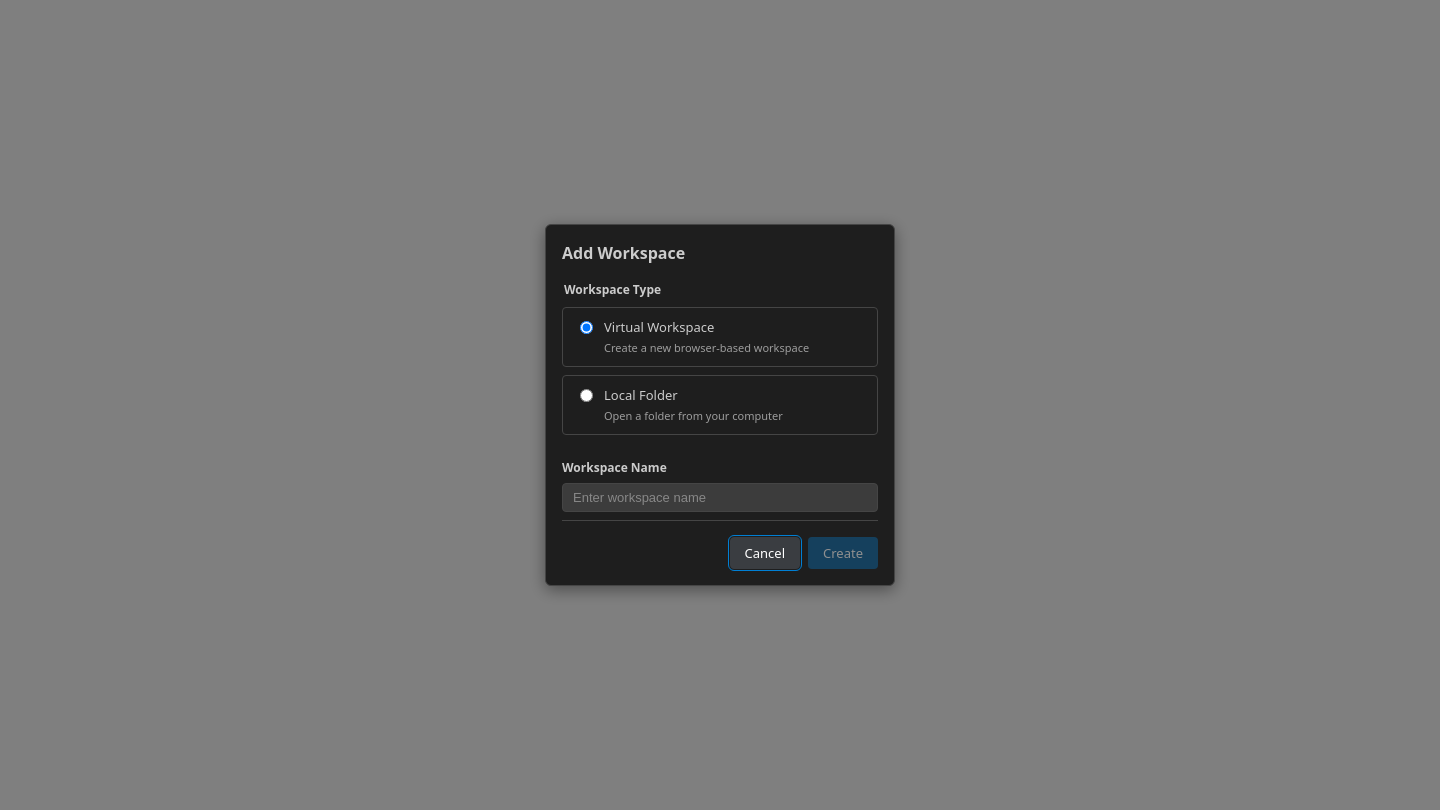
Test: AddWorkspaceDialog › local folder selection › shows folder name after selection
Click the radio button labelled "Local Folder Open a folder from your computer".
click(586, 396)  # box x1=580 y1=389 x2=593 y2=402
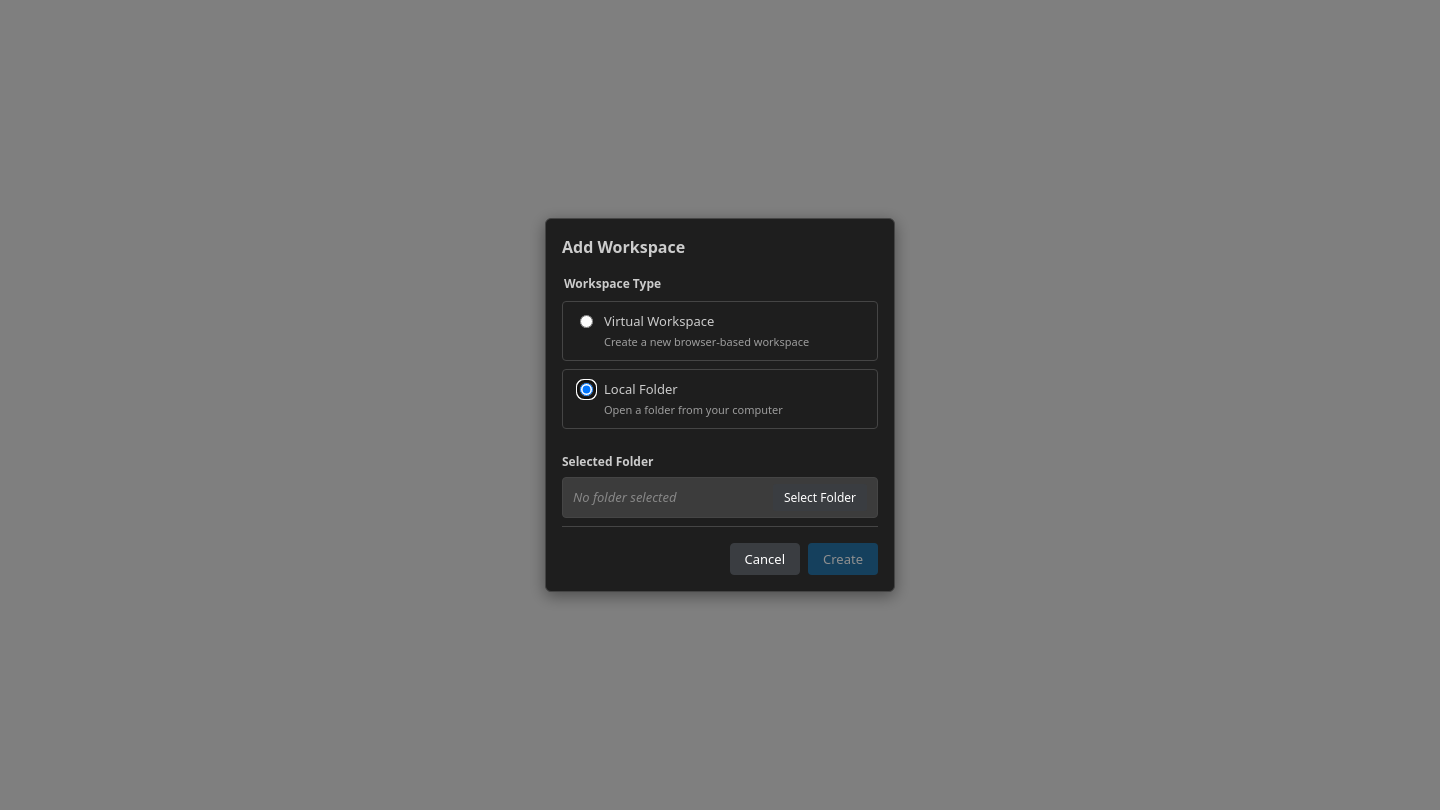
Click the button "Select Folder".
click(820, 498)  # box x1=773 y1=484 x2=867 y2=511
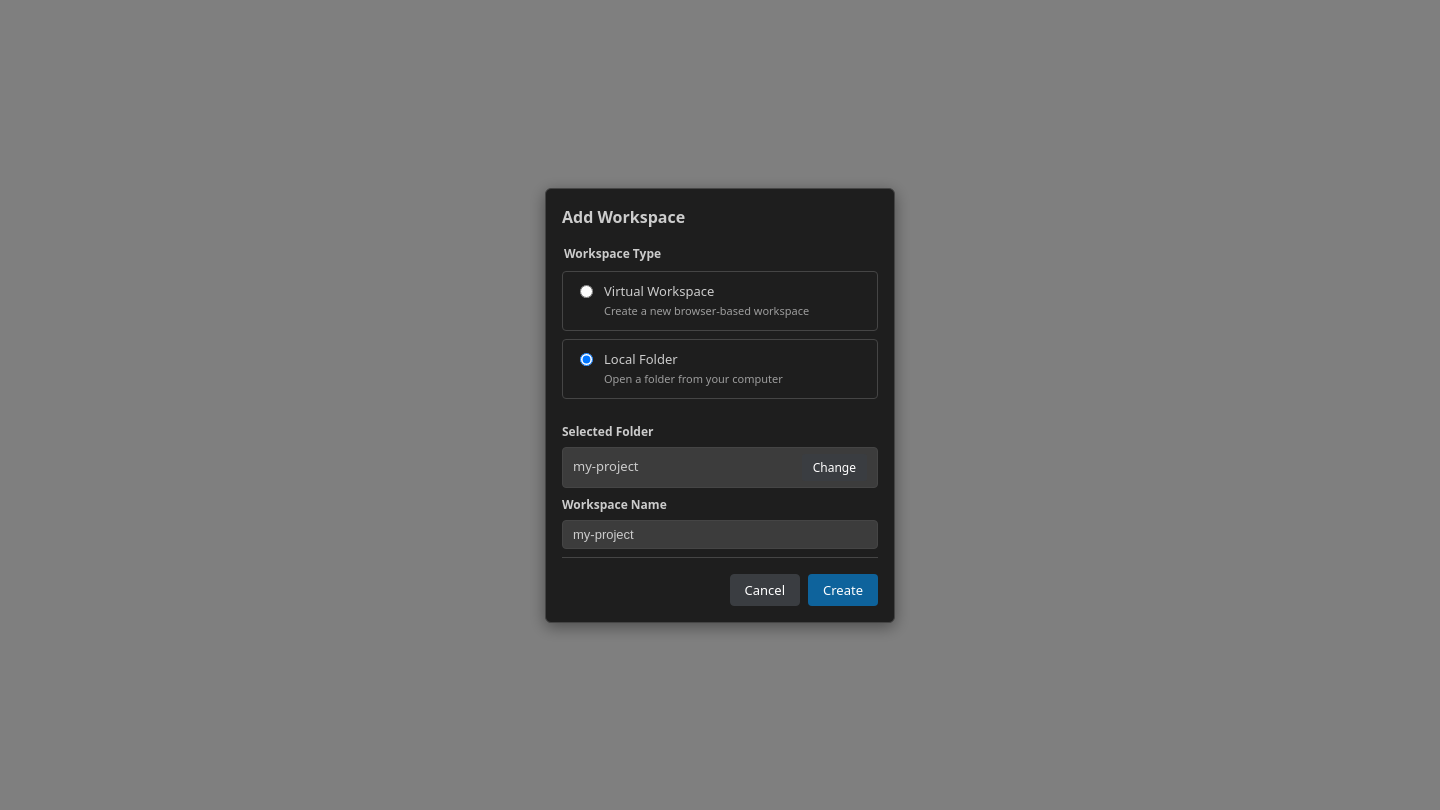
expect the text "my-project" is shown: met, box x1=573 y1=457 x2=639 y2=475
